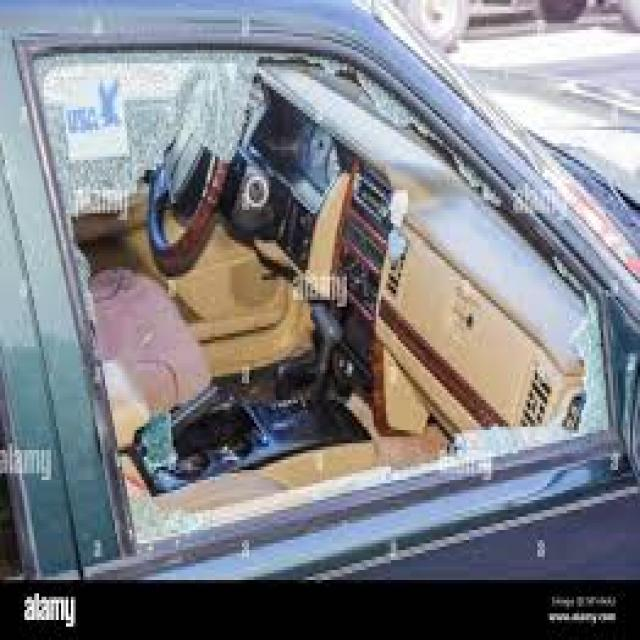damaged-window: (4, 23, 640, 533)
